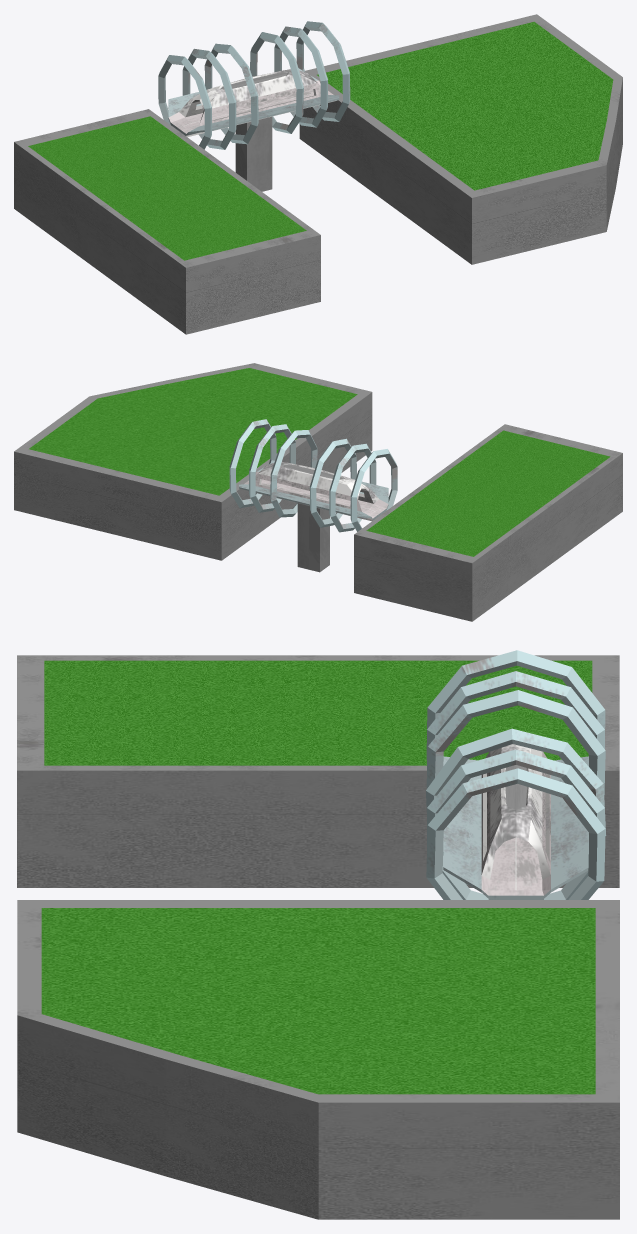
The model's file is Terrain1_Stage3_Asset.fbx.
3 renders of one model, top to bottom at view 1: azimuth 30°, elevation 25°; view 2: azimuth 150°, elevation 25°; view 3: azimuth 270°, elevation 25°, orthographic. The views are drawn at different scales.
Visible parts, largest first — view 1: Terrain1_Stage3_Asset, Terrain2_Stage3_Asset, Bridge_Asset, Ring_Asset2, Ring_Asset4, Ring_Asset, Ring_Asset3, Ring_Asset5, Ring_Asset1; view 2: Terrain1_Stage3_Asset, Terrain2_Stage3_Asset, Bridge_Asset, Ring_Asset2, Ring_Asset3, Ring_Asset, Ring_Asset4, Ring_Asset5, Ring_Asset1; view 3: Terrain1_Stage3_Asset, Terrain2_Stage3_Asset, Bridge_Asset, Ring_Asset, Ring_Asset1, Ring_Asset5, Ring_Asset2, Ring_Asset3, Ring_Asset4.
Boxes of the visible parts, x1,y1,x2,y2 form: Terrain1_Stage3_Asset: (299,14,622,264); Terrain2_Stage3_Asset: (14,109,320,334); Bridge_Asset: (168,68,339,191); Ring_Asset2: (250,32,303,133); Ring_Asset4: (182,48,236,149); Ring_Asset: (296,21,350,121); Ring_Asset3: (158,55,211,149); Ring_Asset5: (204,43,258,144); Ring_Asset1: (274,26,327,127); Terrain1_Stage3_Asset: (14,363,372,560); Terrain2_Stage3_Asset: (354,424,622,621); Bridge_Asset: (239,461,388,572); Ring_Asset2: (270,430,317,517); Ring_Asset3: (350,449,397,531); Ring_Asset: (229,419,276,508); Ring_Asset4: (329,443,376,532); Ring_Asset5: (309,438,356,527); Ring_Asset1: (249,424,295,512); Terrain1_Stage3_Asset: (17,900,619,1219); Terrain2_Stage3_Asset: (17,655,619,887); Bridge_Asset: (443,744,588,899); Ring_Asset: (426,768,605,899); Ring_Asset1: (427,749,604,899); Ring_Asset5: (426,690,605,794); Ring_Asset2: (426,728,606,884); Ring_Asset3: (426,650,605,759); Ring_Asset4: (427,671,604,766).
Bounding box in the file's own units: 188 × 50.98 × 107.
